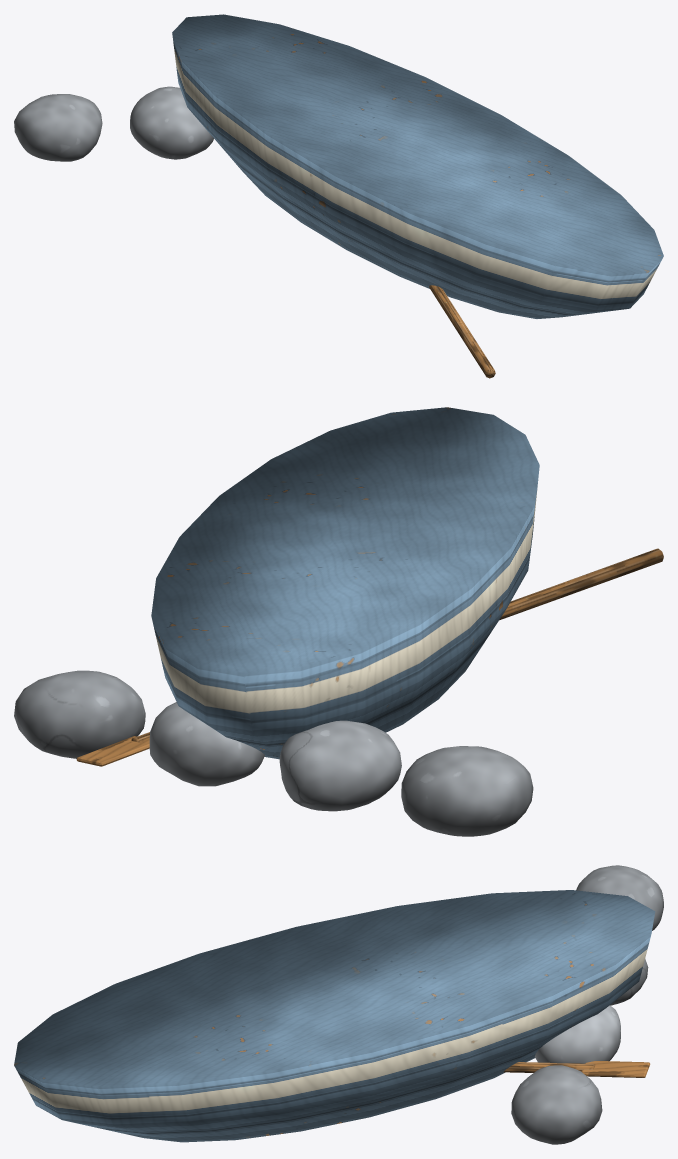
The model's file is lifeboat.glb.
3 renders of one model, top to bottom at view 1: azimuth 30°, elevation 25°; view 2: azimuth 150°, elevation 25°; view 3: azimuth 270°, elevation 25°, orthographic. The views are drawn at different scales.
Visible parts, largest first — view 1: Lifeboat; view 2: Lifeboat; view 3: Lifeboat.
Boxes of the visible parts, <box> form: Lifeboat: <box>14,14,663,378</box>; Lifeboat: <box>14,407,663,836</box>; Lifeboat: <box>14,865,663,1144</box>.
Bounding box in the file's own units: 2.49 × 0.8963 × 3.41.
Materials: 1 (1 with a texture image).
